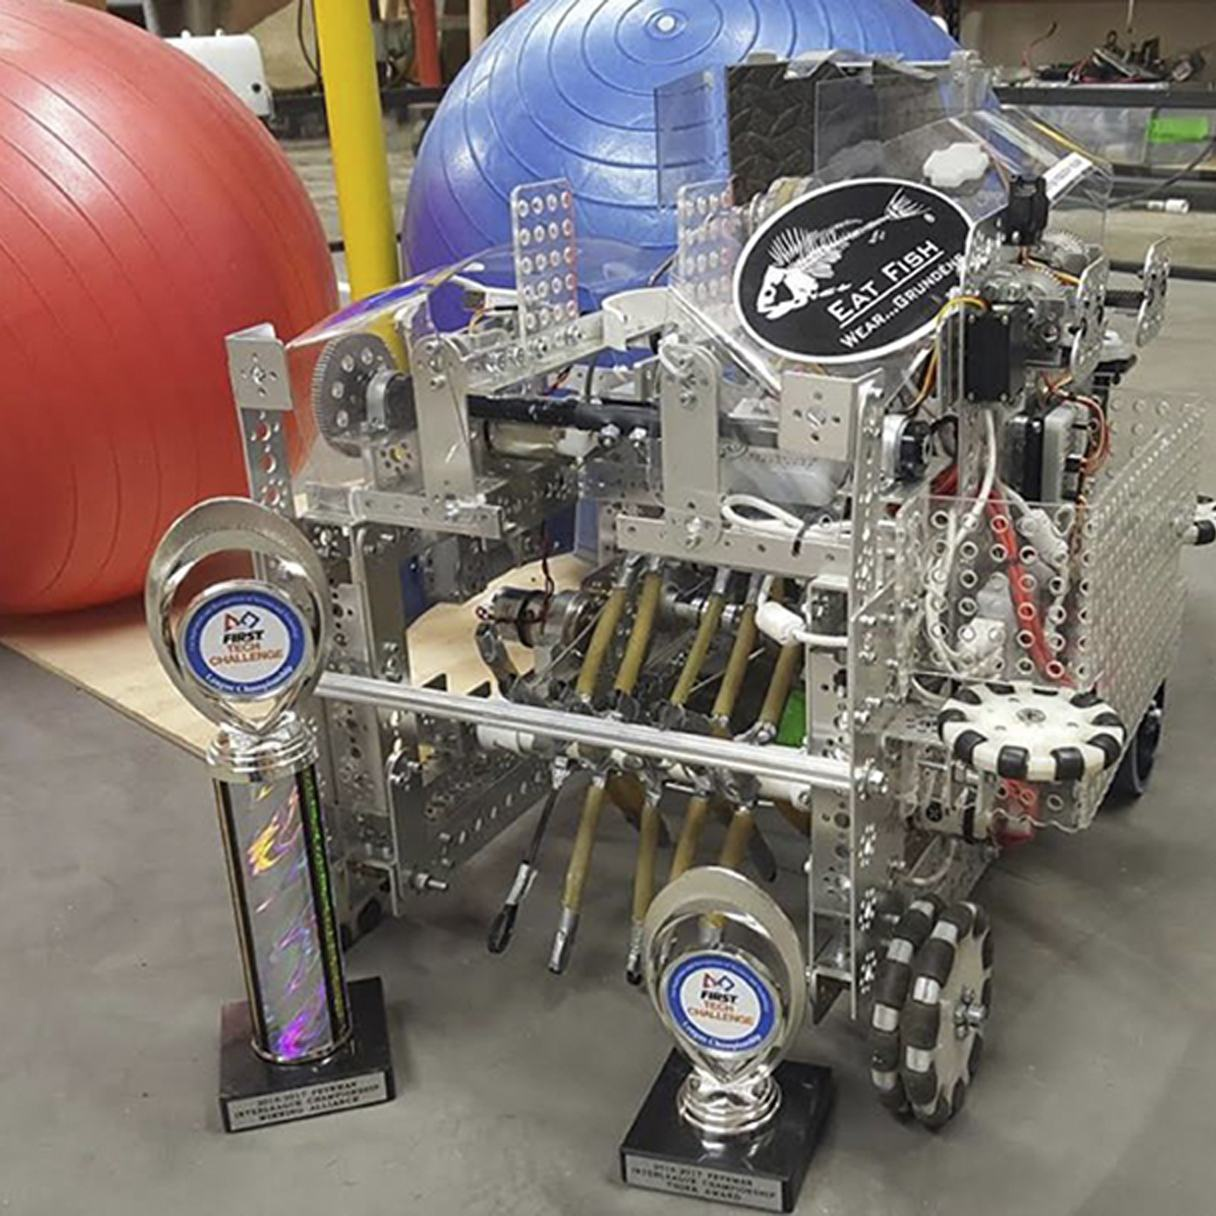robot: (218, 52, 1212, 1132)
yogaball: (1, 0, 345, 622), (393, 2, 1030, 288)
